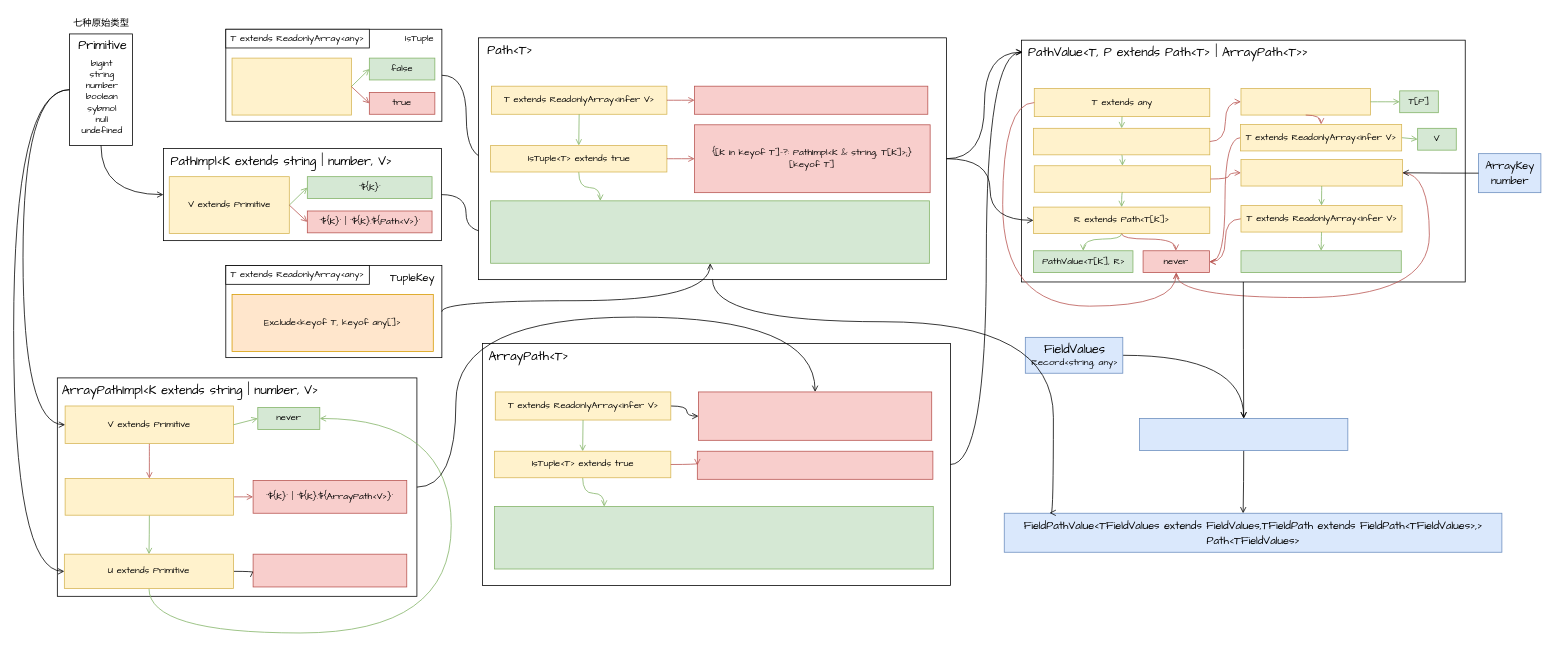
The diagram is 1555 pixels wide and 647 high, and some of its shapes have lost their labels. The shapes that lost their labels are listed below. From the top down, each one's centre as x and y in pixels, then its label:
At (291,86): "number extends T['length']".
At (811,99): "PathImpl<ArrayKey, V>".
At (1305,101): "P extends `${ArrayKey}`".
At (1121,141): "P extends `${infer K}.${infer R}`".
At (1122,178): "K extends keyof T".
At (1321,172): "K extends `${ArrayKey}`".
At (709,231): "{[K in TupleKey<T>]-?: PathImpl<K & string, T[K]>;}[TupleKey<T>]".
At (1320,261): "PathValue<V, R & Path<V>>".
At (815,415): "{ [K in keyof T]-?: ArrayPathImpl<K & string, T[K]>; }[keyof T]".
At (1243,434): "FieldPath<TFieldValues extends FieldValues> Path<TFieldValues>".
At (815,464): "ArrayPathImpl<ArrayKey, V>".
At (149,496): "V extends ReadonlyArray<infer U>".
At (713,537): "{[K in TupleKey<T>]-?: ArrayPathImpl<K & string, T[K]>;} [TupleKey<T>]".
At (329,570): "`${K}.${ArrayPath<V>}`".
